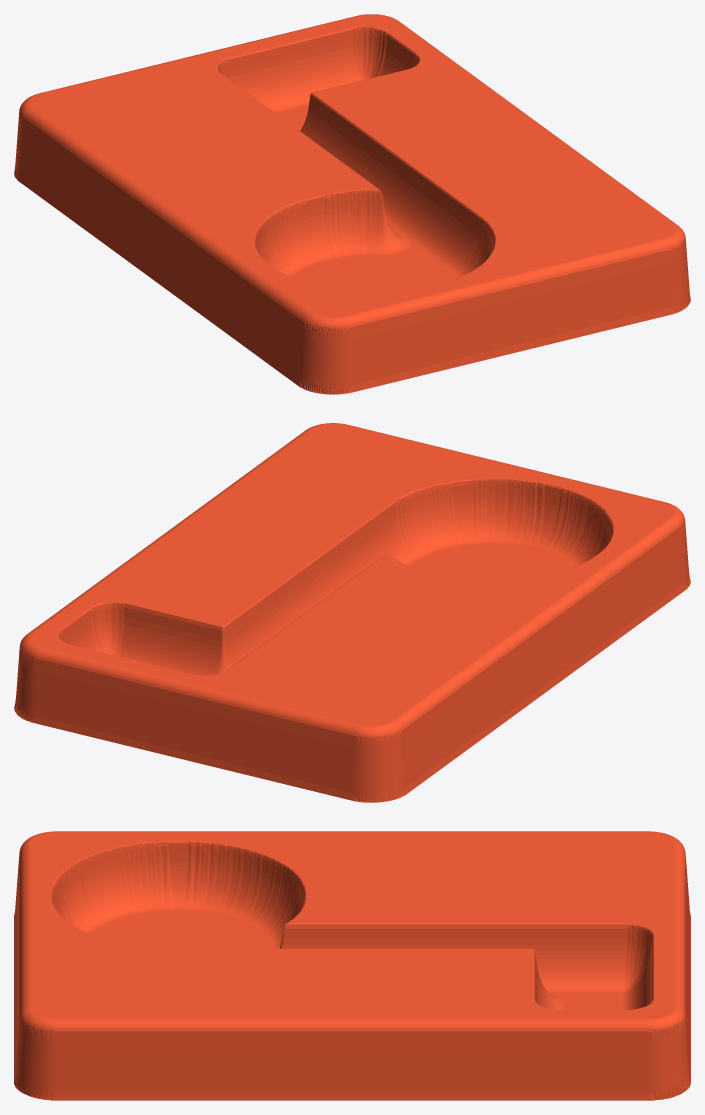
The model's file is mold.glb.
The picture shows the model from 3 angles, top to bottom: view 1: azimuth 30°, elevation 25°; view 2: azimuth 150°, elevation 25°; view 3: azimuth 270°, elevation 25°; orthographic projection. The views are drawn at different scales.
Visible parts, largest first — view 1: geometry_0; view 2: geometry_0; view 3: geometry_0.
Part boxes in pixels (x1=…): geometry_0: x1=14, y1=14, x2=690, y2=394; geometry_0: x1=14, y1=423, x2=690, y2=802; geometry_0: x1=14, y1=831, x2=690, y2=1100.
Size of the model in its own units: 0.1005 by 0.0175 by 0.1435.
